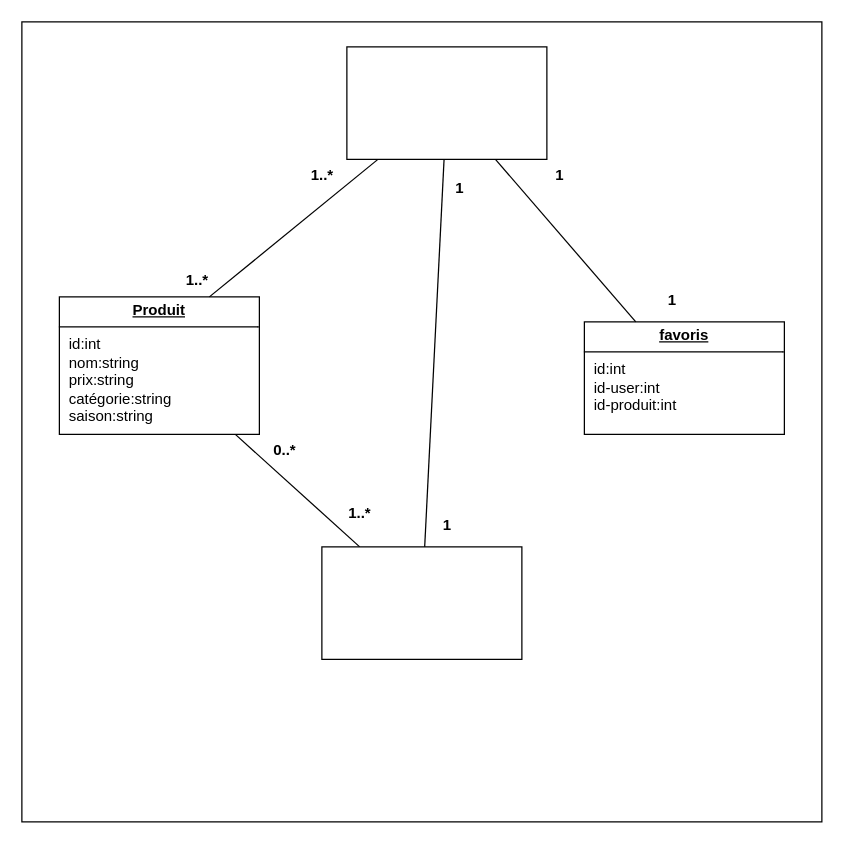
Some shapes in this 844 by 844 pixel diagram are drawn without their labels. Here are the shapes that lost their labels. From the top down, the centre of each, then its label:
At (x=446, y=102): "User id:int nom:string e-mail:string password:string".
At (x=421, y=602): "panier id:int id-user:int id-produit:int".
